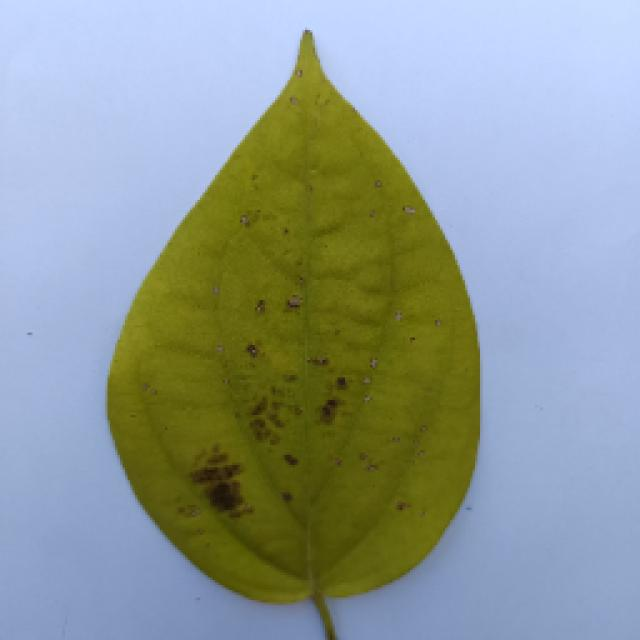slow-decline: (102, 28, 478, 622)
